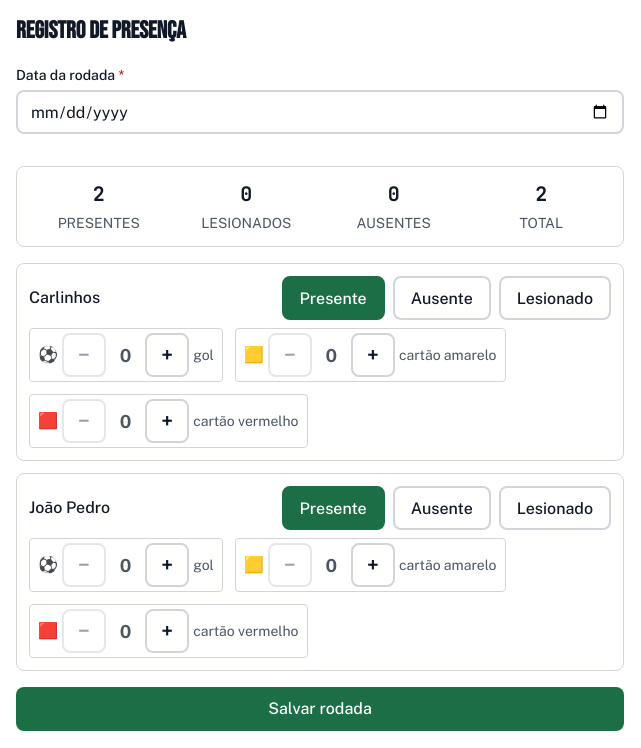
Scenario: LancamentoRodadaForm › eventos de atleta ausente ficam desabilitados (não escondidos) com texto explicativo (RF-02.6)
Expected: the heading "Registro de presença" is shown, [16,16,186,45]
Click the radio button labelled "Ausente" in the row of "João Pedro".
click(442, 508)  # box [393,486,491,530]
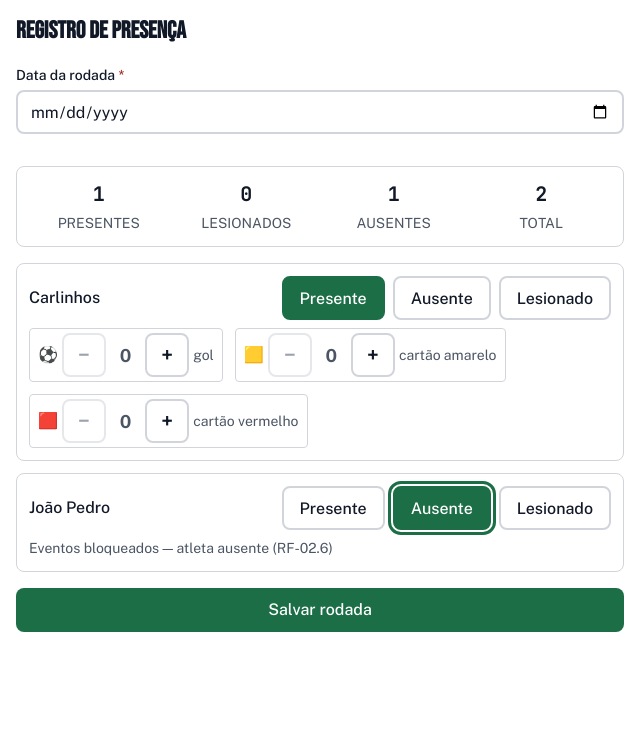
Expected: the button named "Aumentar Gols de Carlinhos" is enabled, [145,333,189,377]
Now the text "Eventos bloqueados — atleta ausente (RF-02.6)" is shown, box [29,540,333,556]
